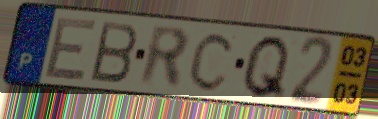2: (285, 32, 336, 108)
B: (88, 19, 140, 86)
C: (187, 30, 238, 94)
E: (41, 16, 100, 82)
Q: (238, 33, 293, 103)
R: (138, 22, 192, 92)
